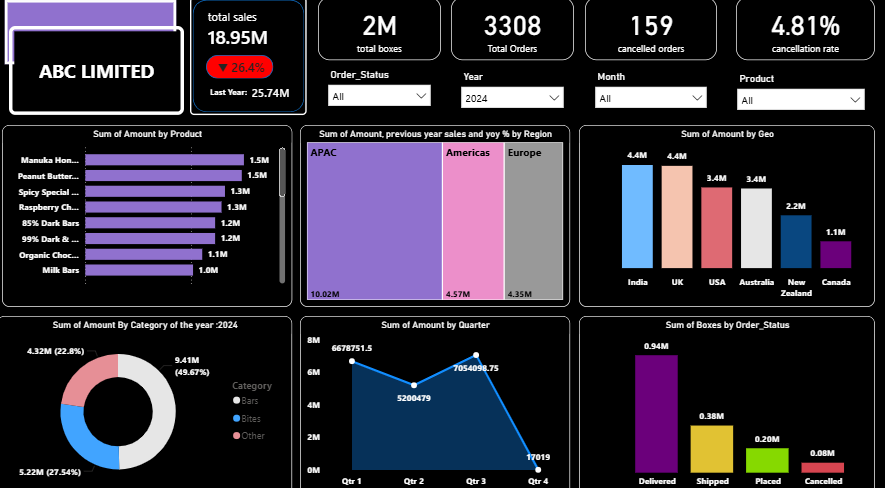

This screenshot's page, from the dashboard's own definition file:
{"tool":"powerbi","page":{"name":"sales dashboard","canvas":[1280,720],"ordinal":0},"visuals":[{"type":"shape","box":[7.2,0,254.9,100.8],"z":0},{"type":"shape","box":[277.9,0,168.5,169.7],"z":1000,"group":"g1"},{"type":"shape","box":[17.3,41.8,252,128.2],"z":1000},{"type":"slicer","fields":{"Values":["shipments.Order_Status"]},"box":[462.2,93.6,177.1,76.3],"z":2000},{"type":"cardVisual","fields":{"Data":["_measures.total sales"]},"box":[286.1,0,128.4,83.3],"z":3000,"group":"g1"},{"type":"barChart","fields":{"Category":["products.Product"],"Y":["Sum(shipments.Amount)"]},"box":[7.2,184.3,417.6,262.1],"z":3000},{"type":"donutChart","fields":{"Category":["products.Category"],"Y":["Sum(shipments.Amount)"]},"box":[0,459.4,424.8,260.6],"z":4000},{"type":"shape","box":[301,83.3,97,34],"z":5000,"group":"g1"},{"type":"columnChart","fields":{"Category":["locations.Geo"],"Y":["Sum(shipments.Amount)"]},"box":[838.1,184.3,426.2,262.1],"z":5000},{"type":"clusteredColumnChart","fields":{"Y":["Sum(shipments.Boxes)"],"Category":["shipments.Order_Status"]},"box":[838.1,459.4,426.2,260.6],"z":6000},{"type":"card","fields":{"Values":["Sum(shipments.Boxes)"]},"box":[462.2,0,177.1,90.7],"z":7000},{"type":"cardVisual","title":"yoy %","fields":{"Data":["_measures.yoy %"]},"box":[301,58.6,128.4,83.3],"z":7000,"group":"g1"},{"type":"card","fields":{"Values":["CountNonNull(shipments.ShipmentID)"]},"box":[654.2,0,177.1,90.7],"z":8000},{"type":"shape","box":[301,117.3,80.6,40.1],"z":9000,"group":"g1"},{"type":"lineChart","fields":{"Y":["Sum(shipments.Amount)"],"Category":["calender.Date.Variation.Date Hierarchy.Quarter"]},"box":[436.3,459.4,388.8,260.6],"z":9000},{"type":"slicer","fields":{"Values":["calender.Date.Variation.Date Hierarchy.Year"]},"box":[654.2,96.5,177.1,73.4],"z":10000},{"type":"cardVisual","title":"yoy %","fields":{"Data":["_measures.previous year sales"]},"box":[350.3,101.9,95.5,71],"z":11000,"group":"g1"},{"type":"treemap","fields":{"Group":["locations.Region"],"Values":["Sum(shipments.Amount)"]},"box":[436.3,184.3,388.8,262.1],"z":12000},{"type":"slicer","fields":{"Values":["calender.Date.Variation.Date Hierarchy.Month"]},"box":[846.2,96.5,190.1,73.4],"z":13000},{"type":"slicer","fields":{"Values":["products.Product"]},"box":[1051.2,99.4,213.1,70.6],"z":14000},{"type":"card","fields":{"Values":["_measures.cancelled orders"]},"box":[846.2,0,190.1,90.7],"z":15000},{"type":"card","fields":{"Values":["_measures.cancellation rate"]},"box":[1064.2,0,200.2,90.7],"z":16000},{"type":"group","id":"g1","title":"Group 1","box":[277.9,0,168.5,169.9],"z":17000}]}

Visuals, with their boxes in screenshot pixels (x1, y1, x2, y2), scaled from the page's 1280x720 canvas onto the 885x488 screenshot:
shape: rect(5, 0, 181, 68)
shape: rect(192, 0, 309, 115)
shape: rect(12, 28, 186, 115)
slicer - shipments.Order_Status: rect(320, 63, 442, 115)
cardVisual - _measures.total sales: rect(198, 0, 287, 56)
barChart - products.Product x Sum(shipments.Amount): rect(5, 125, 294, 303)
donutChart - products.Category x Sum(shipments.Amount): rect(0, 311, 294, 487)
shape: rect(208, 56, 275, 80)
columnChart - locations.Geo x Sum(shipments.Amount): rect(579, 125, 874, 303)
clusteredColumnChart - Sum(shipments.Boxes) x shipments.Order_Status: rect(579, 311, 874, 487)
card - Sum(shipments.Boxes): rect(320, 0, 442, 61)
"yoy %" cardVisual: rect(208, 40, 297, 96)
card - CountNonNull(shipments.ShipmentID): rect(452, 0, 575, 61)
shape: rect(208, 80, 264, 107)
lineChart - Sum(shipments.Amount) x calender.Date.Variation.Date Hierarchy.Quarter: rect(302, 311, 570, 487)
slicer - calender.Date.Variation.Date Hierarchy.Year: rect(452, 65, 575, 115)
"yoy %" cardVisual: rect(242, 69, 308, 117)
treemap - locations.Region x Sum(shipments.Amount): rect(302, 125, 570, 303)
slicer - calender.Date.Variation.Date Hierarchy.Month: rect(585, 65, 717, 115)
slicer - products.Product: rect(727, 67, 874, 115)
card - _measures.cancelled orders: rect(585, 0, 717, 61)
card - _measures.cancellation rate: rect(736, 0, 874, 61)
"Group 1" group: rect(192, 0, 309, 115)
